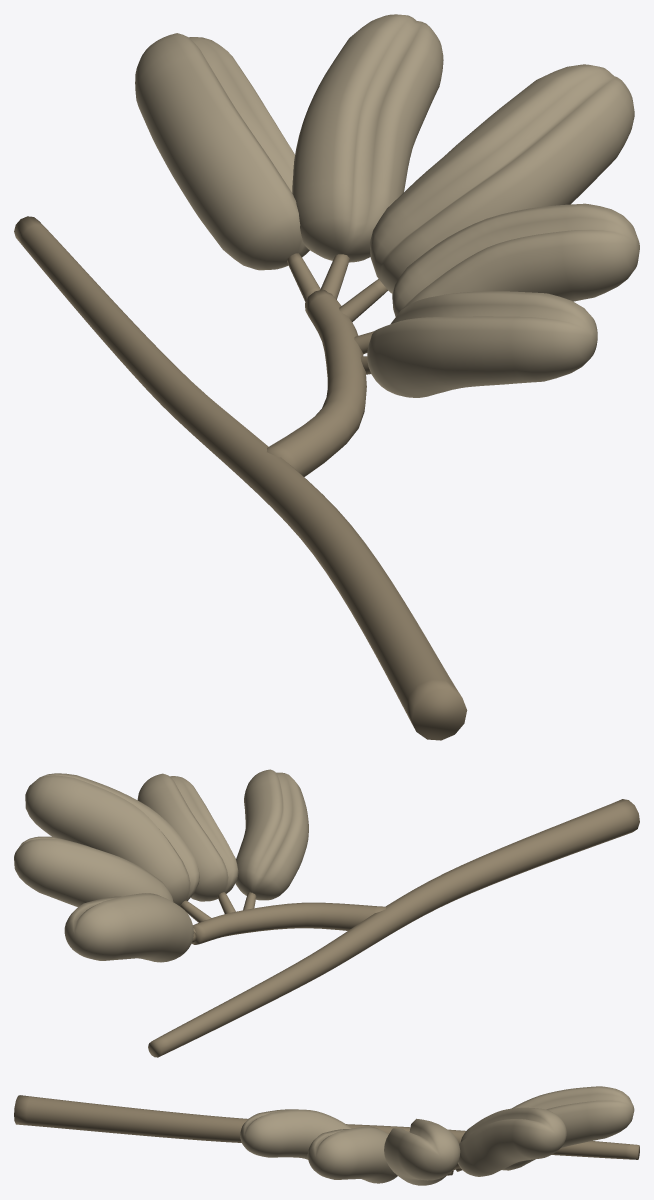
File: joffrea.glb
The picture shows the model from 3 angles, top to bottom: view 1: azimuth 30°, elevation 25°; view 2: azimuth 150°, elevation 25°; view 3: azimuth 270°, elevation 25°; orthographic projection. The views are drawn at different scales.
Parts seen in each view (by area): view 1: one-mature-twisted-follicle-bearing-state-no-detached-seeds-, preserved-longshoot-shortshoot-junction-with-attached-fruit-; view 2: one-mature-twisted-follicle-bearing-state-no-detached-seeds-, preserved-longshoot-shortshoot-junction-with-attached-fruit-; view 3: one-mature-twisted-follicle-bearing-state-no-detached-seeds-, preserved-longshoot-shortshoot-junction-with-attached-fruit-.
Part boxes in pixels (x1,y1,x2,y2): one-mature-twisted-follicle-bearing-state-no-detached-seeds-: (135,14,639,397); preserved-longshoot-shortshoot-junction-with-attached-fruit-: (14,216,467,740); one-mature-twisted-follicle-bearing-state-no-detached-seeds-: (14,769,308,962); preserved-longshoot-shortshoot-junction-with-attached-fruit-: (148,799,639,1057); one-mature-twisted-follicle-bearing-state-no-detached-seeds-: (240,1086,634,1185); preserved-longshoot-shortshoot-junction-with-attached-fruit-: (14,1095,639,1175).
Bounding box in the file's own units: 0.1055 × 0.0415 × 0.18.
